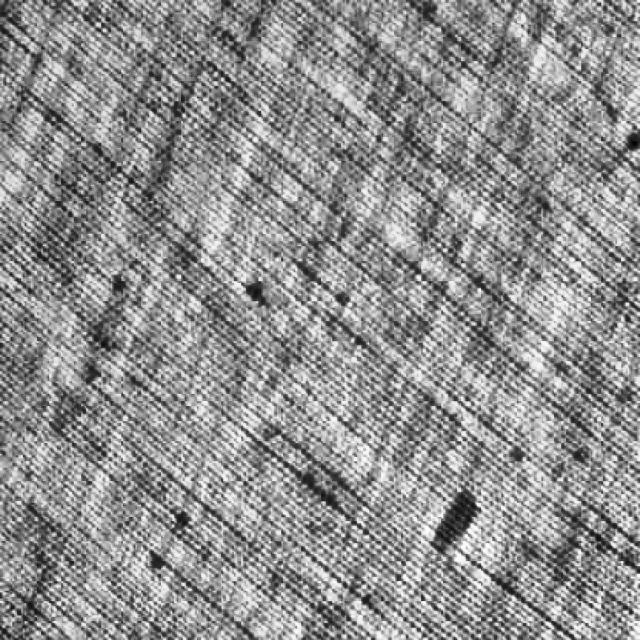oil_spot: (418, 477, 492, 562)
